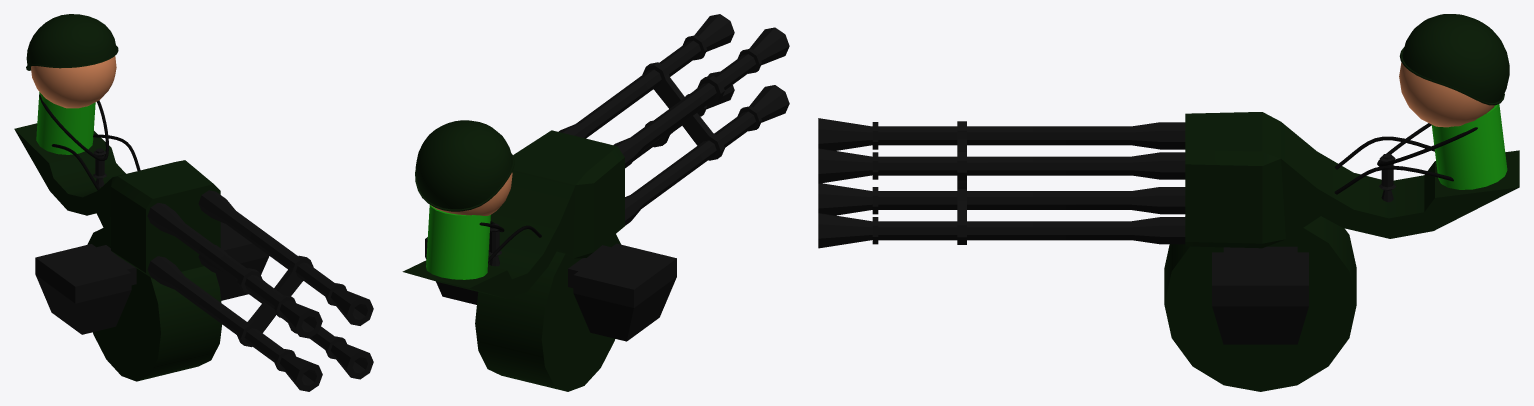
File: weapon.obj
The picture shows the model from 3 angles, left to right: view 1: azimuth 30°, elevation 25°; view 2: azimuth 150°, elevation 25°; view 3: azimuth 270°, elevation 25°; orthographic projection. The views are drawn at different scales.
Parts seen in each view (by area): view 1: Cylinder.002; view 2: Cylinder.002; view 3: Cylinder.002.
Part boxes in pixels (x1=…): Cylinder.002: x1=14, y1=14, x2=373, y2=391; Cylinder.002: x1=402, y1=14, x2=789, y2=391; Cylinder.002: x1=818, y1=14, x2=1519, y2=391.
Size of the model in its own units: 1.3 by 1.88 by 3.37.
